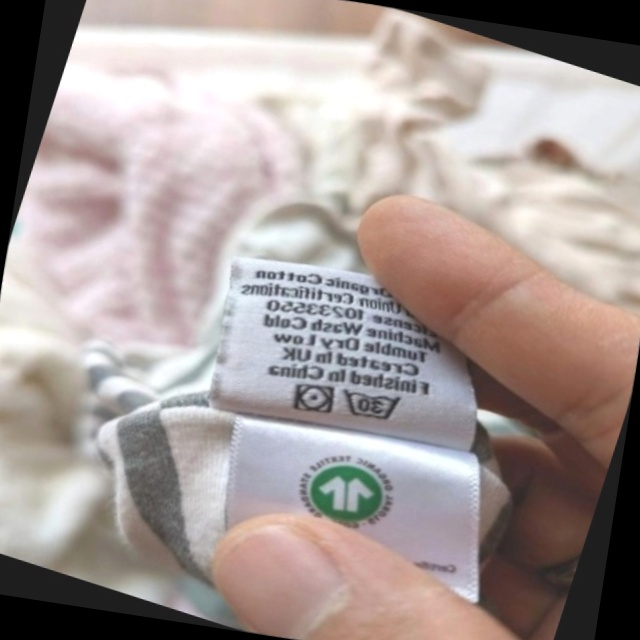30C: (328, 370, 415, 440)
tumble_dry_low: (281, 369, 346, 429)
